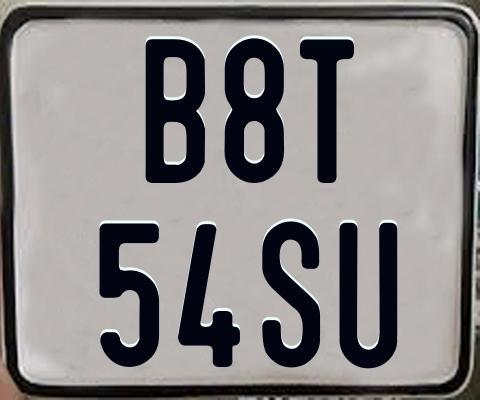4: (176, 223, 240, 367)
5: (96, 221, 162, 371)
8: (222, 36, 287, 183)
B: (145, 36, 205, 183)
S: (259, 221, 320, 370)
T: (297, 37, 352, 183)
U: (337, 220, 397, 366)
